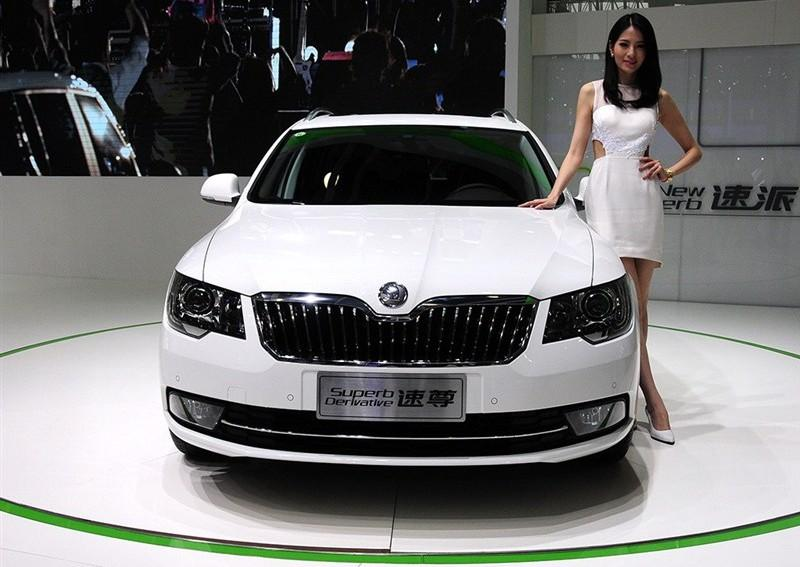Wagon: (156, 109, 642, 472)
